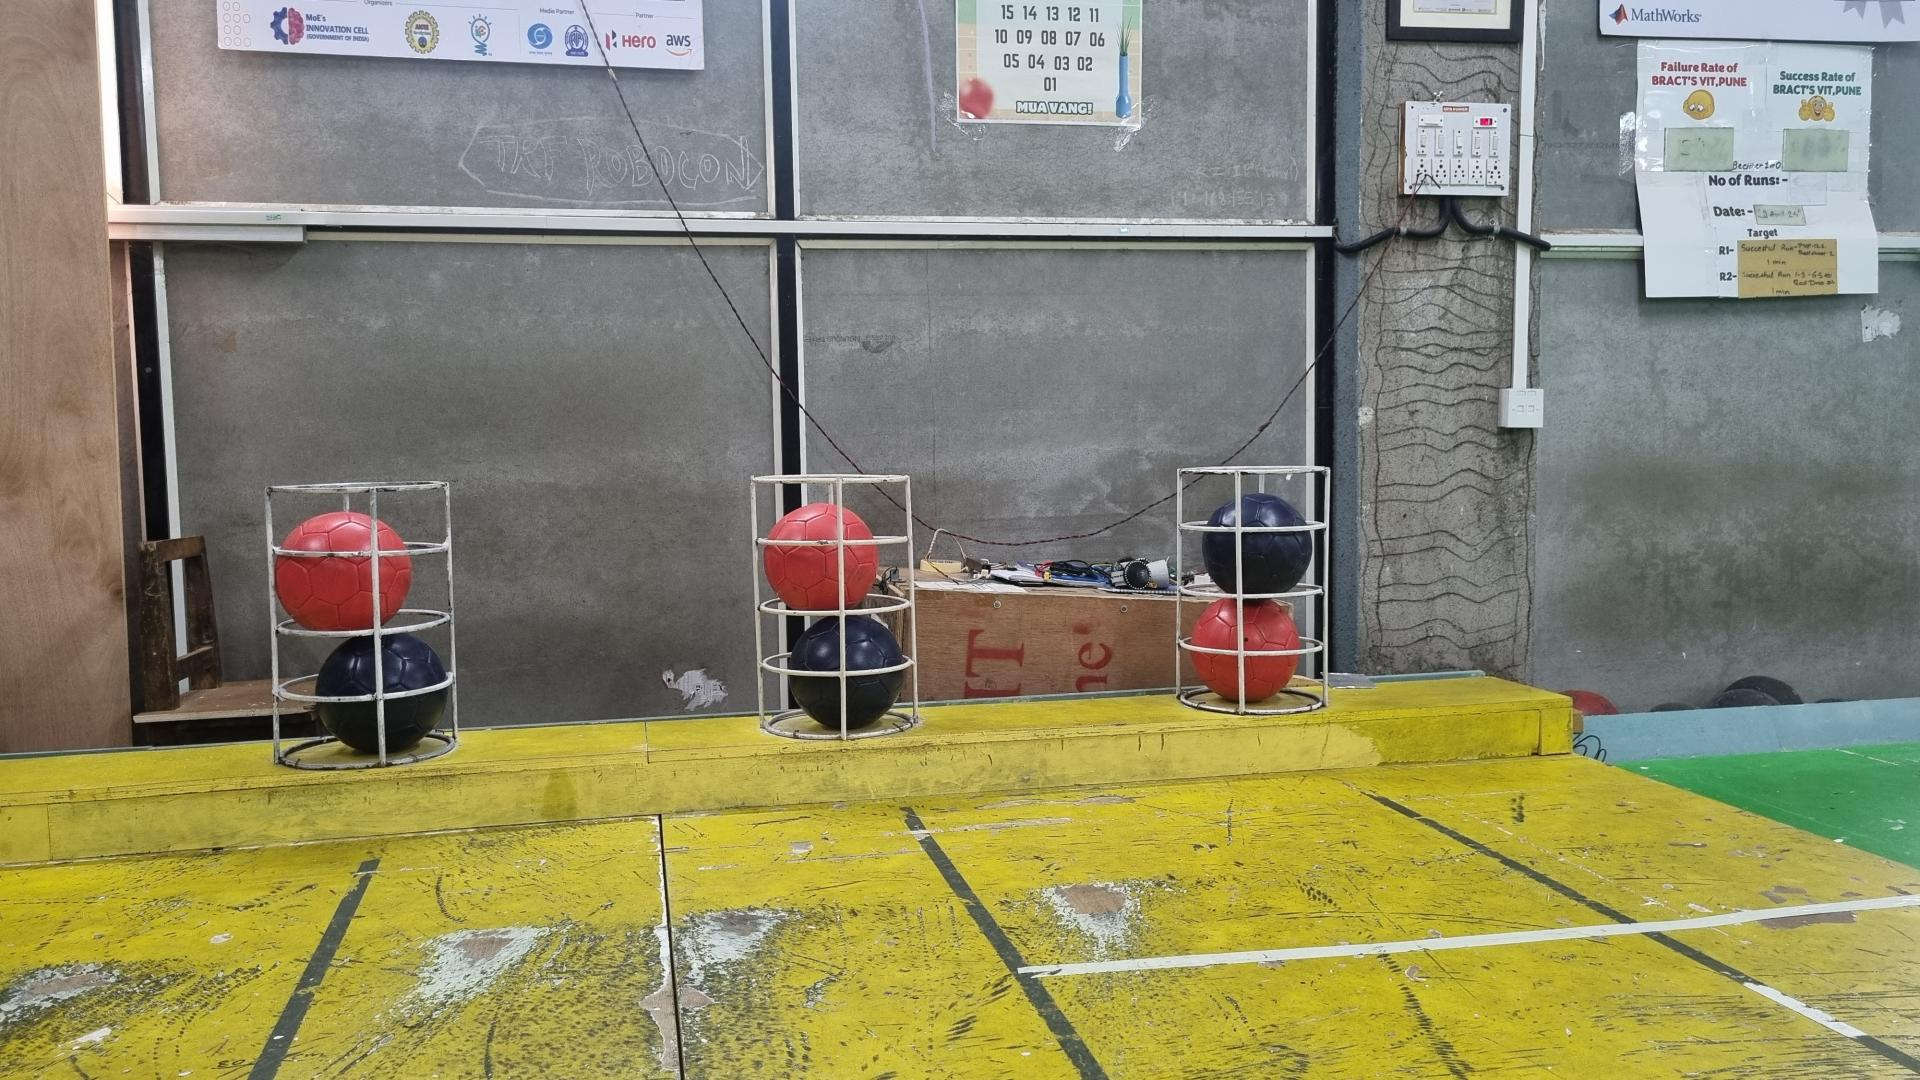dhoka: (315, 633, 450, 757), (787, 615, 903, 731), (1200, 495, 1312, 596)
laale: (274, 509, 413, 633), (1188, 596, 1302, 708), (765, 502, 877, 611)
